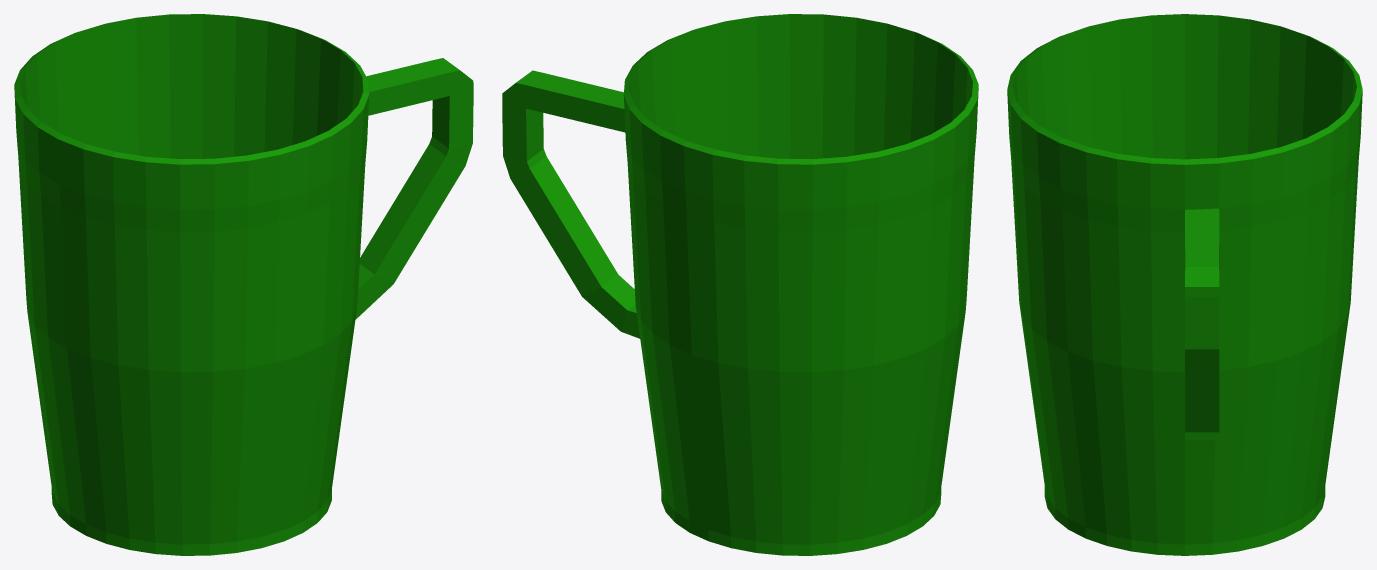
File: Cup.fbx
3 views of the same model, side by side, from view 1: azimuth 30°, elevation 25°; view 2: azimuth 150°, elevation 25°; view 3: azimuth 270°, elevation 25° (orthographic).
Visible parts, largest first — view 1: cup; view 2: cup; view 3: cup.
Boxes of the visible parts, bbox=[...] form: cup: bbox=[14, 14, 473, 555]; cup: bbox=[502, 14, 978, 555]; cup: bbox=[1007, 14, 1362, 555].
Size of the model in its own units: 359 by 322 by 253.
